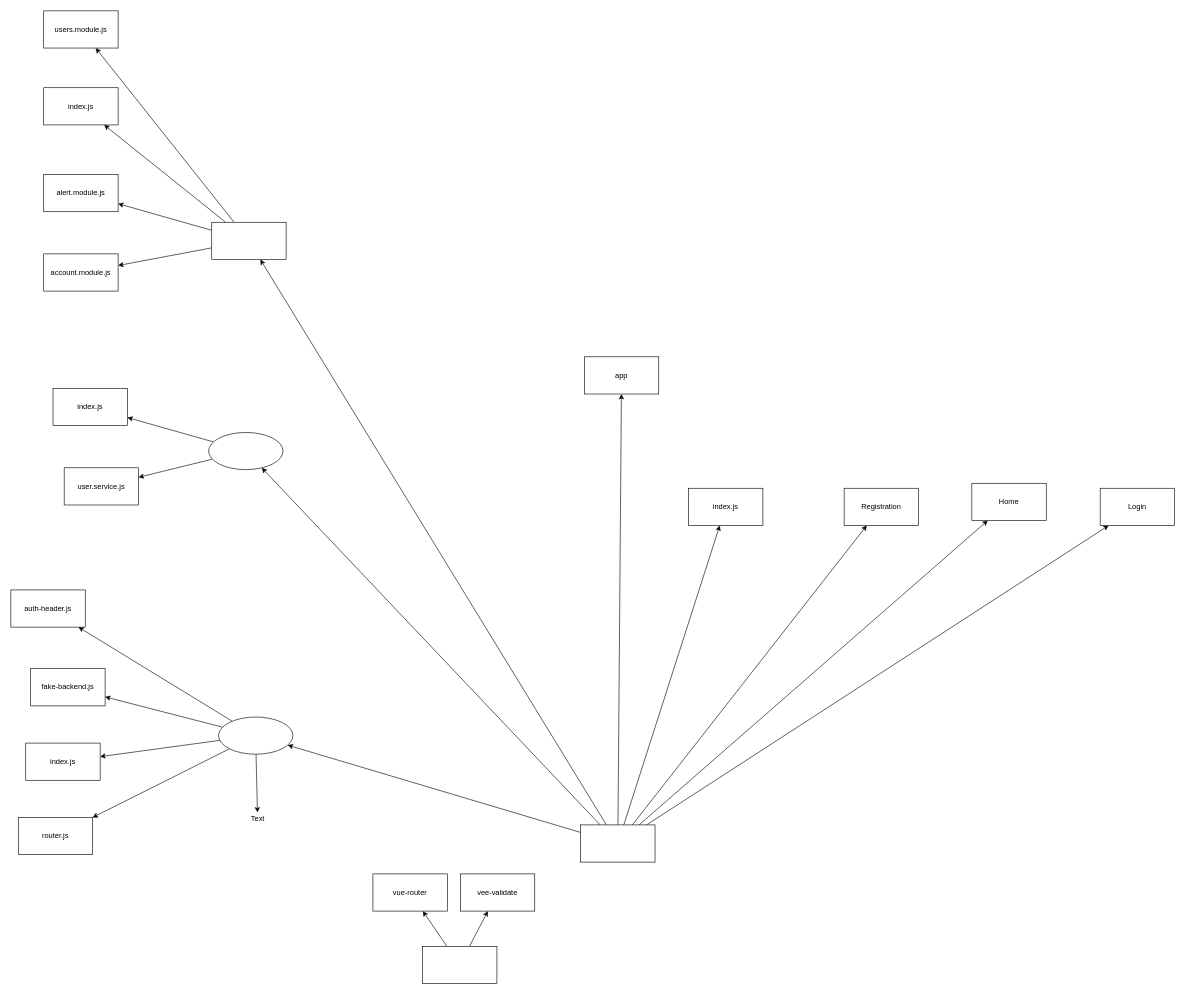
This 1185x994 diagram has some shape labels left out. Each missing label, with the box of its shape:
_helpers: (218, 716, 293, 754)
_services: (208, 432, 283, 470)
_store: (211, 222, 286, 259)
dependencies: (422, 946, 497, 984)
SRC: (580, 824, 655, 862)
